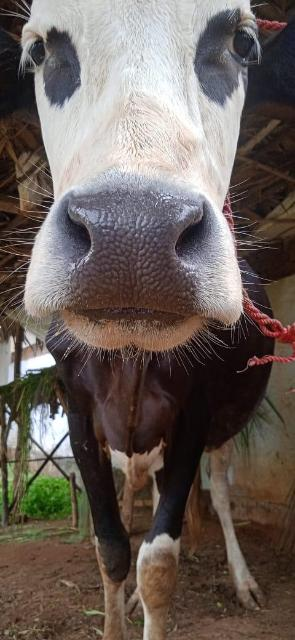Muzzle: (72, 198, 194, 320)
